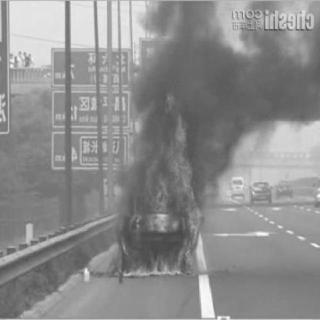Fire: (104, 90, 207, 278)
